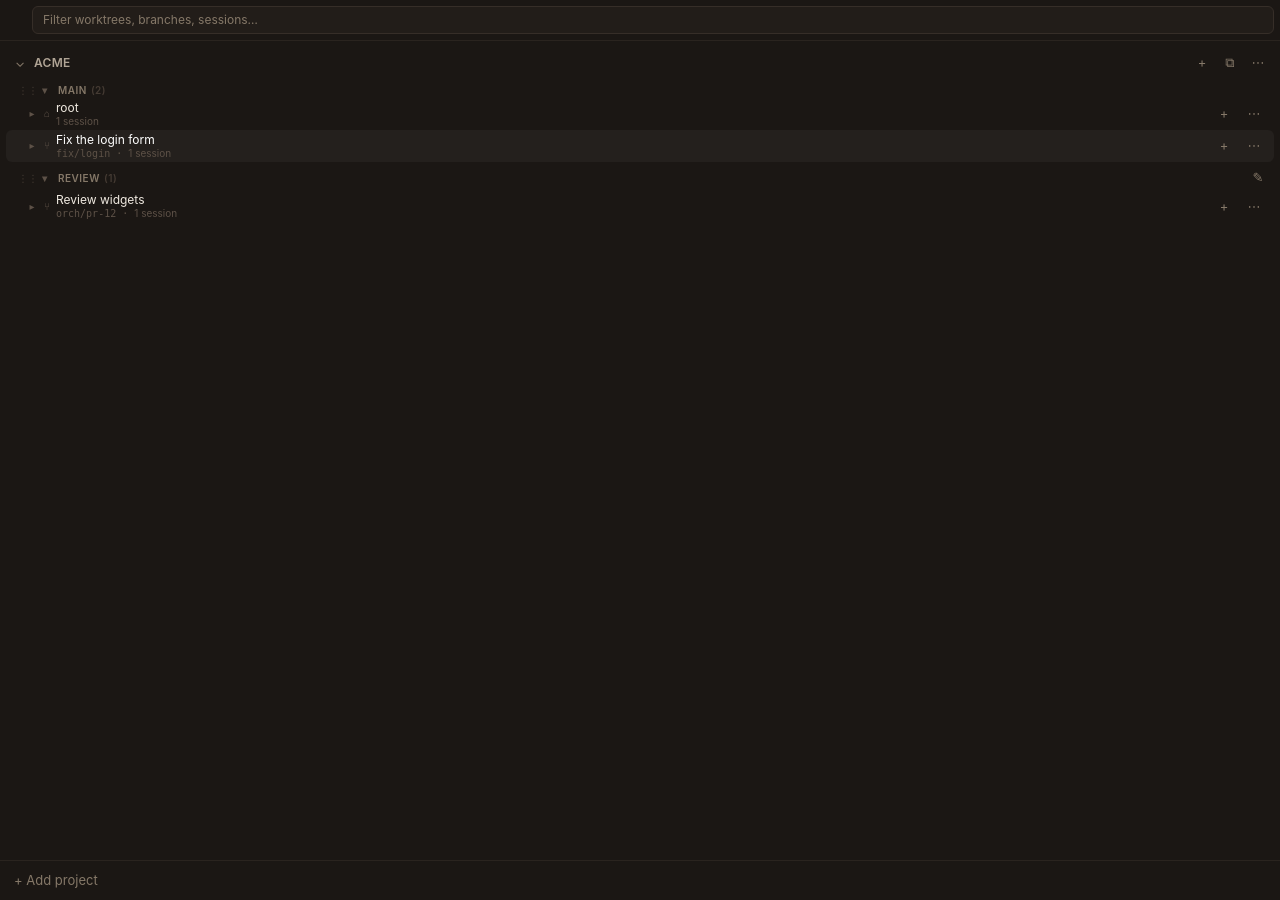
Scenario: worktree folding › a worktree with a single session stays folded when you land in it: that row is the chat already open
The chevron still opens it by hand, and that choice is remembered.
Click the button named "Expand worktree" at (32, 146), box top-left (26, 138), bottom-right (38, 153)
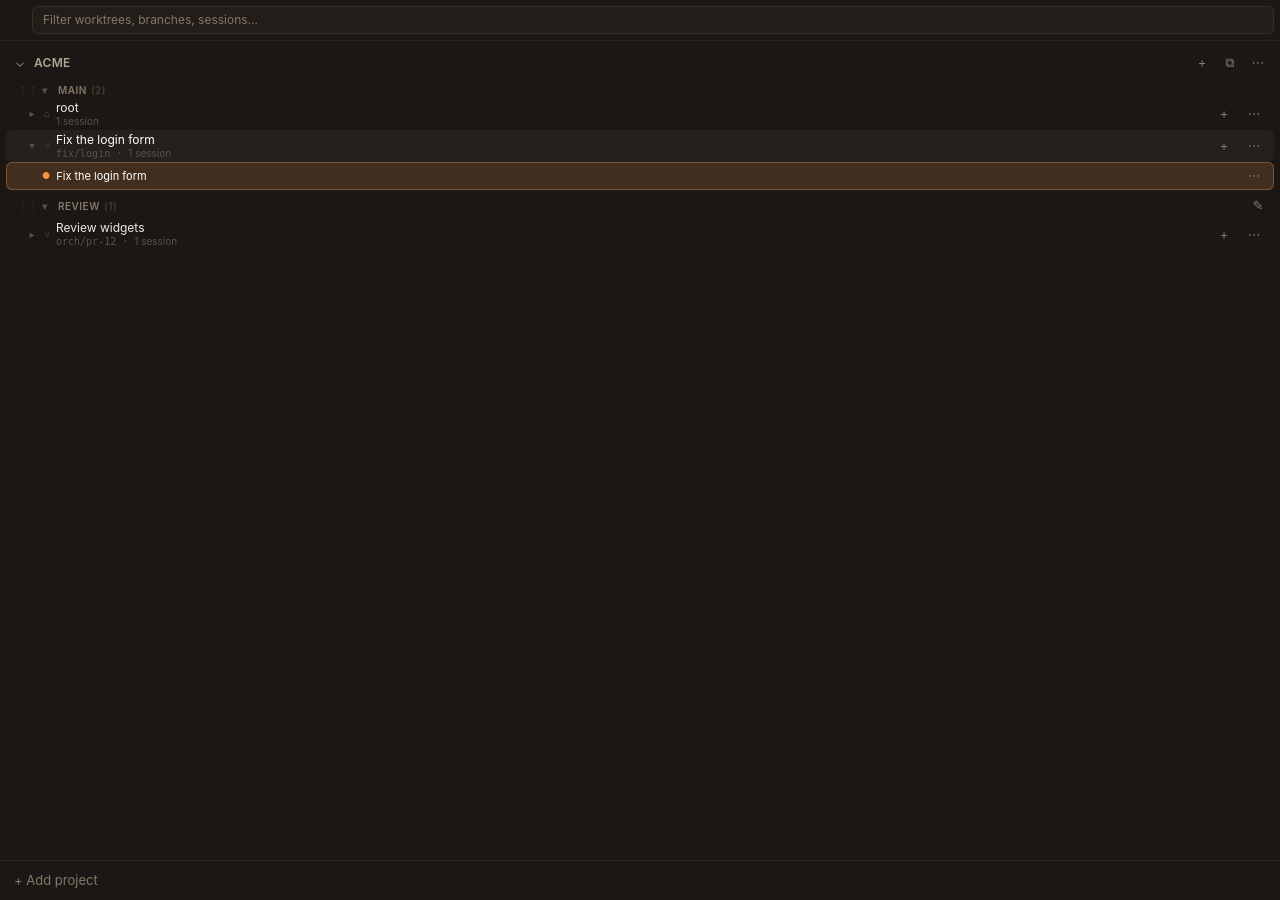
Check: the 2nd text "Fix the login form" is shown, box top-left (56, 169), bottom-right (147, 183)
